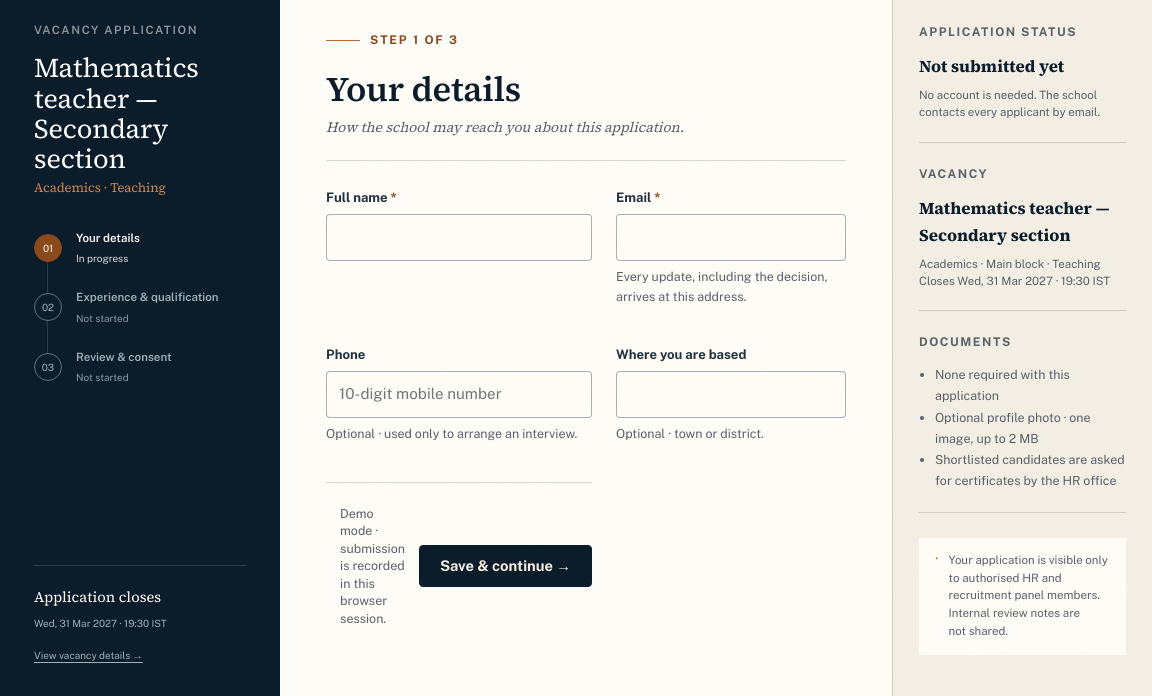
it: JobForm public surface › offers exactly one optional photo input on the review step and no document inputs
The width and height of the screenshot is (1152, 696).
Type "Aisha Mir" into the field labelled "Full name *" at (459, 237), box [326,214,592,260]
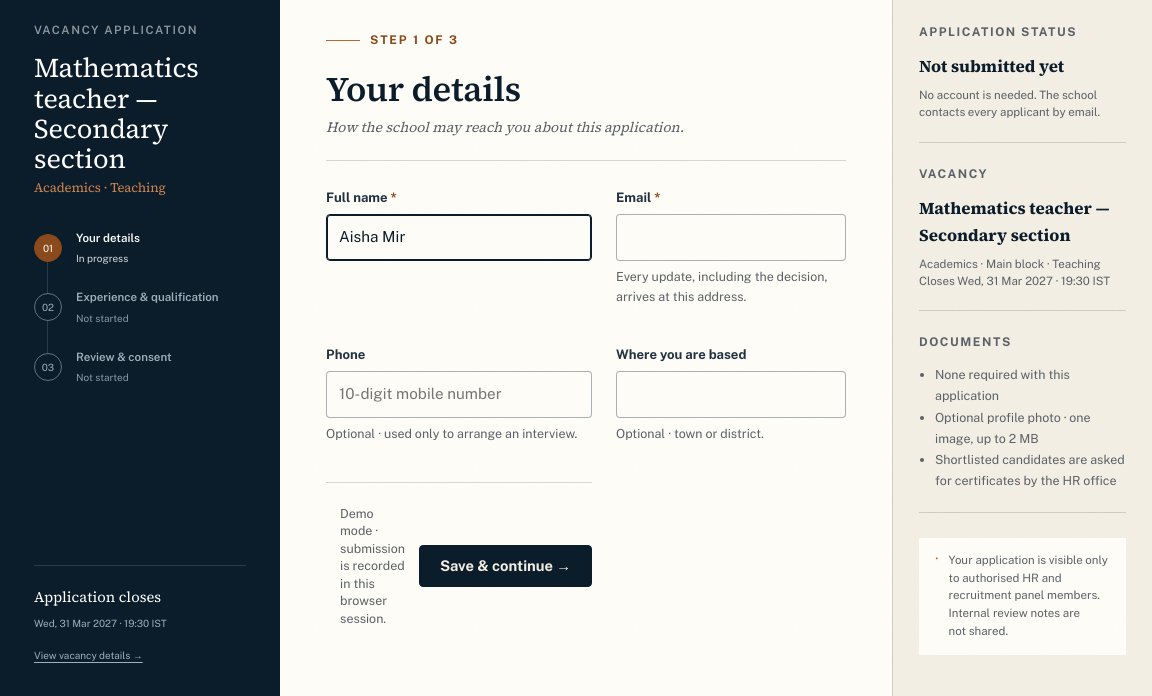
Type "aisha@example.com" into the field labelled "Email *" at (731, 237), box [616,214,846,260]
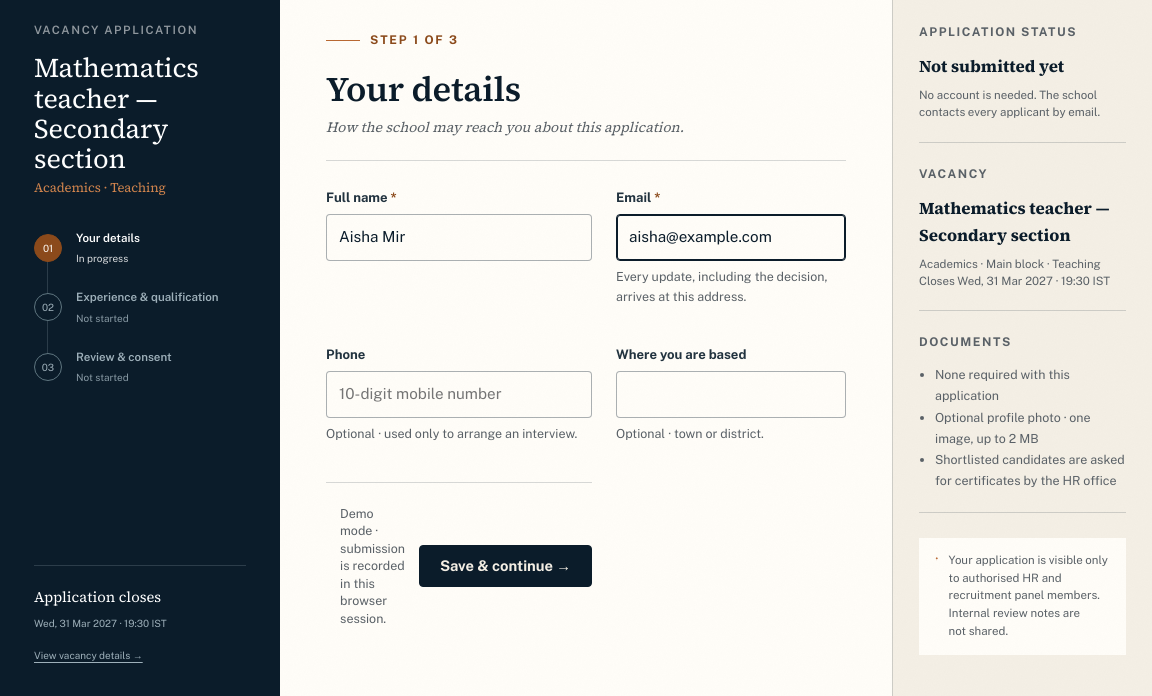
Click the button "Save & continue →" at (506, 566), box [419,545,592,587]
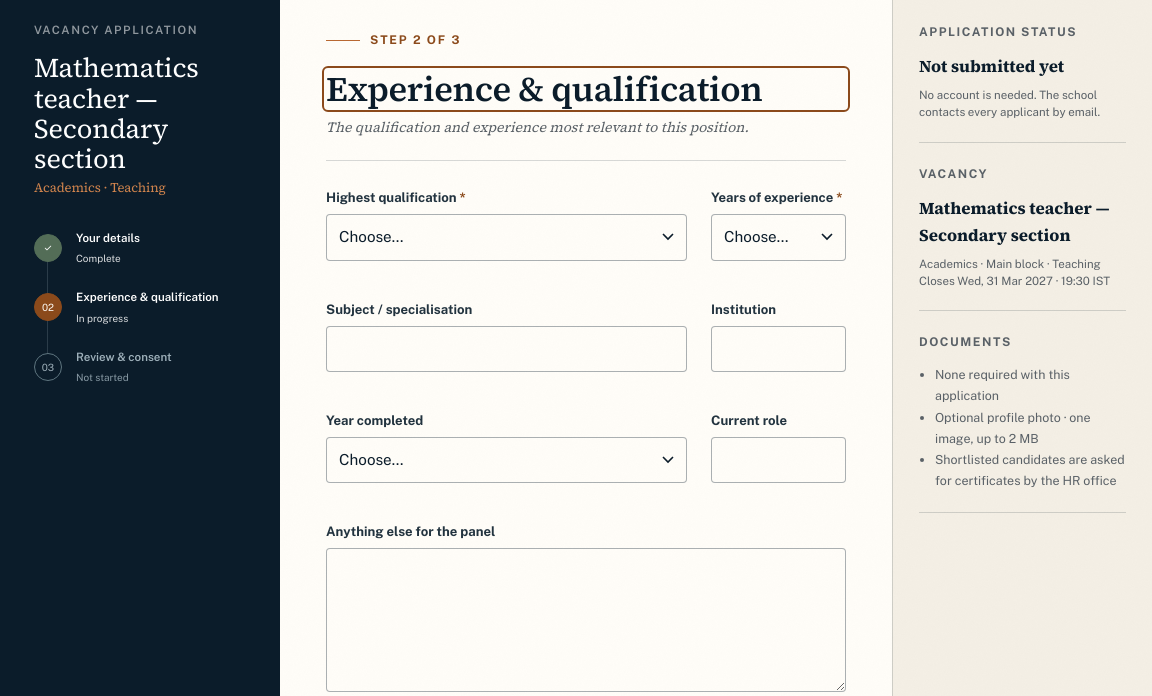
Check: the heading "Experience & qualification" is shown, box [326,65,763,113]
Select "Bachelor of Education (B.Ed.)" in the dropdown labelled "Highest qualification *" at (507, 237), box [326,214,687,260]
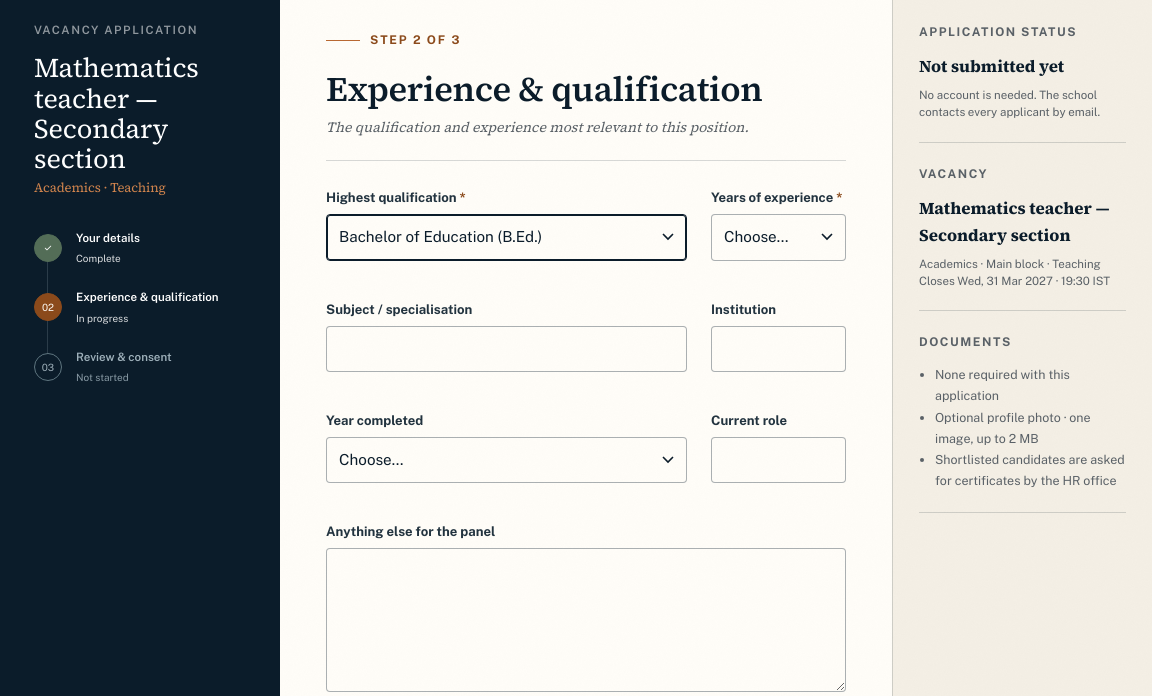
Select "3–5 years" in the dropdown labelled "Years of experience *" at (778, 237), box [711,214,846,260]
(page scrolled)
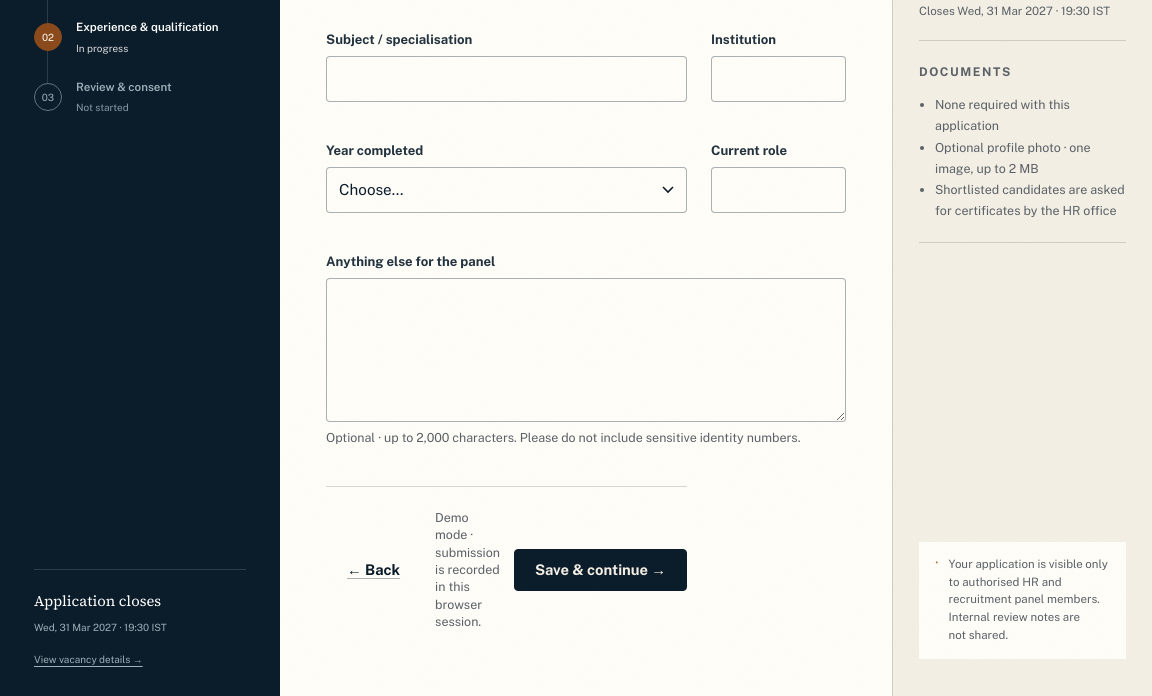
Click the button "Save & continue →" at (601, 570), box [514,549,687,591]
(page scrolled)
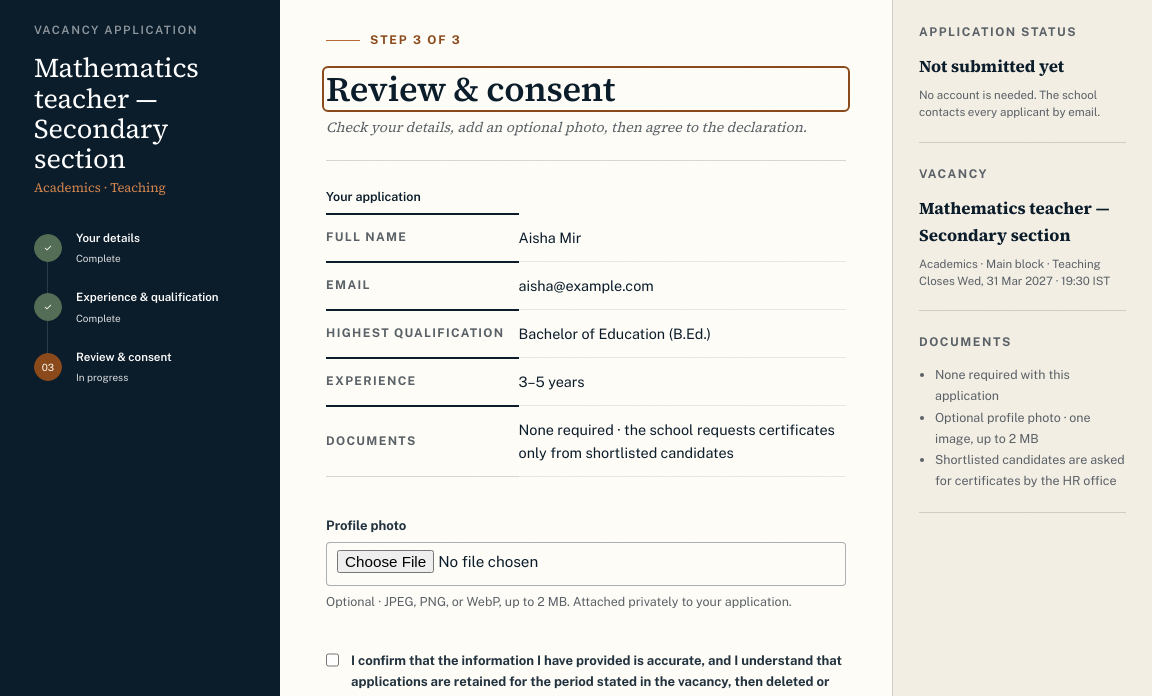
Check: the heading "Review & consent" is shown, box [326,65,615,113]
Check: the number of file fields is 1, box [326,542,846,586]
Check: the text "None required · the school requests certificates only from shortlisted candidates" is shown, box [518,421,835,461]
